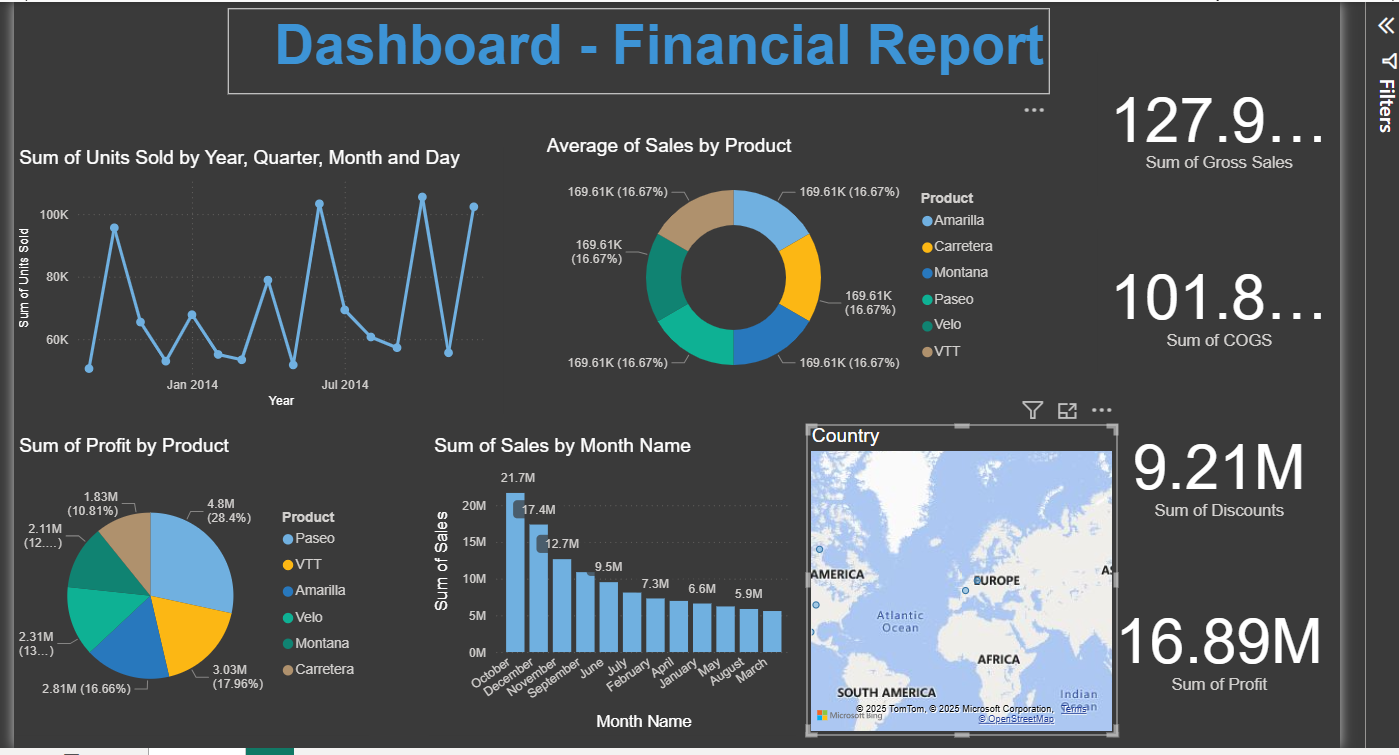

The dashboard page shown, as its layout file describes it:
{"tool":"powerbi","page":{"name":"Page 2","canvas":[1280,720],"ordinal":0},"visuals":[{"type":"card","fields":{"Values":["Sum(financials.Gross Sales)"]},"box":[1045.5,47.7,234.8,139.4],"z":0},{"type":"textbox","box":[206.7,6.1,793.6,83.2],"z":1000},{"type":"card","fields":{"Values":["Sum(financials.COGS)"]},"box":[1045.5,220.1,234.8,139.4],"z":2000},{"type":"card","fields":{"Values":["Sum(financials.Discounts)"]},"box":[1045.5,384,234.8,139.4],"z":3000},{"type":"card","fields":{"Values":["Sum(financials.Profit)"]},"box":[1045.5,551.5,234.8,139.4],"z":4000},{"type":"pieChart","fields":{"Y":["Sum(financials.Profit)"],"Category":["financials.Product"]},"box":[0,417.4,342.6,290.8],"z":5000},{"type":"lineStackedColumnComboChart","fields":{"Category":["financials.Month Name"],"Y":["Sum(financials. Sales)"]},"box":[400.5,417.4,354.7,290.8],"z":6000},{"type":"donutChart","fields":{"Y":["Avg(financials. Sales)"],"Category":["Financial.Product"]},"box":[509.1,127.9,450,255.8],"z":7000},{"type":"lineChart","fields":{"Y":["Sum(financials.Units Sold)"],"Category":["financials.Date.Variation.Date Hierarchy.Year","financials.Date.Variation.Date Hierarchy.Quarter","financials.Date.Variation.Date Hierarchy.Month","financials.Date.Variation.Date Hierarchy.Day"]},"box":[0,139.4,472,256.8],"z":8000},{"type":"map","fields":{"Category":["financials.Country"]},"box":[764.9,407.8,300.4,300.4],"z":9000}]}

Visuals, with their boxes on the page's 1280x720 design canvas (x1, y1, x2, y2). These are canvas units, not pixel positions in the 1399x755 screenshot, which may show the page scaled, cropped or inside an application window:
card - Sum(financials.Gross Sales): box(1046, 48, 1280, 187)
textbox: box(207, 6, 1000, 89)
card - Sum(financials.COGS): box(1046, 220, 1280, 360)
card - Sum(financials.Discounts): box(1046, 384, 1280, 523)
card - Sum(financials.Profit): box(1046, 552, 1280, 691)
pieChart - Sum(financials.Profit) x financials.Product: box(0, 417, 343, 708)
lineStackedColumnComboChart - financials.Month Name x Sum(financials. Sales): box(400, 417, 755, 708)
donutChart - Avg(financials. Sales) x Financial.Product: box(509, 128, 959, 384)
lineChart - Sum(financials.Units Sold) x financials.Date.Variation.Date Hierarchy.Year: box(0, 139, 472, 396)
map - financials.Country: box(765, 408, 1065, 708)
